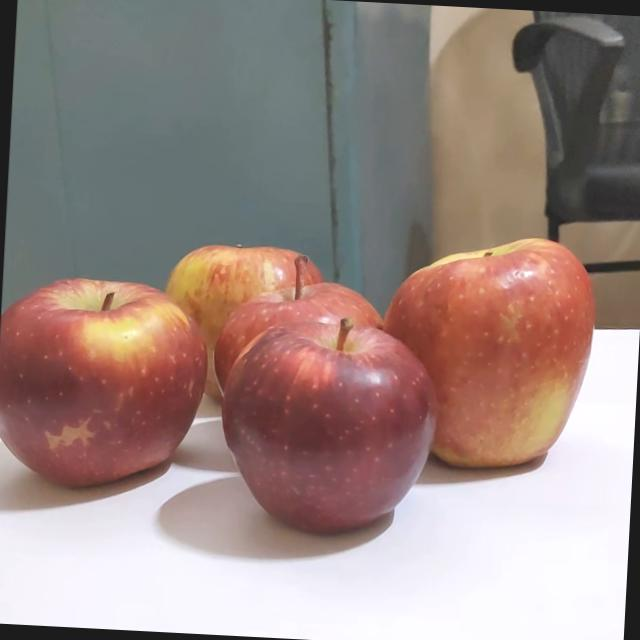apple: (376, 244, 596, 490), (0, 293, 235, 516), (244, 322, 466, 553), (218, 265, 397, 482), (149, 250, 311, 434)
